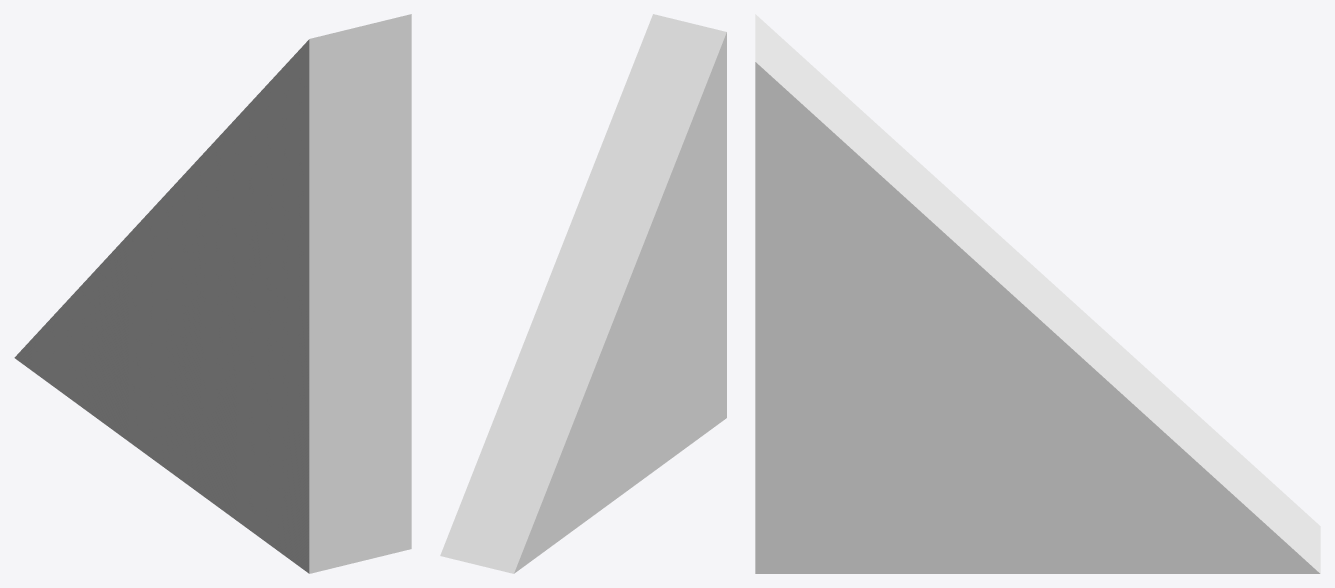
Rendered from BaoPian_FG_TB_SanJiaoL_1X1_on.FBX.
3 renders of one model, left to right at view 1: azimuth 30°, elevation 25°; view 2: azimuth 150°, elevation 25°; view 3: azimuth 270°, elevation 25°, orthographic. The views are drawn at different scales.
Parts seen in each view (by area): view 1: Box002; view 2: Box002; view 3: Box002.
Part boxes in pixels (x1,y1,x2,y2): Box002: (14, 14, 411, 573); Box002: (440, 14, 726, 573); Box002: (755, 14, 1320, 573).
Size of the model in its own units: 0.2 by 1 by 1.
